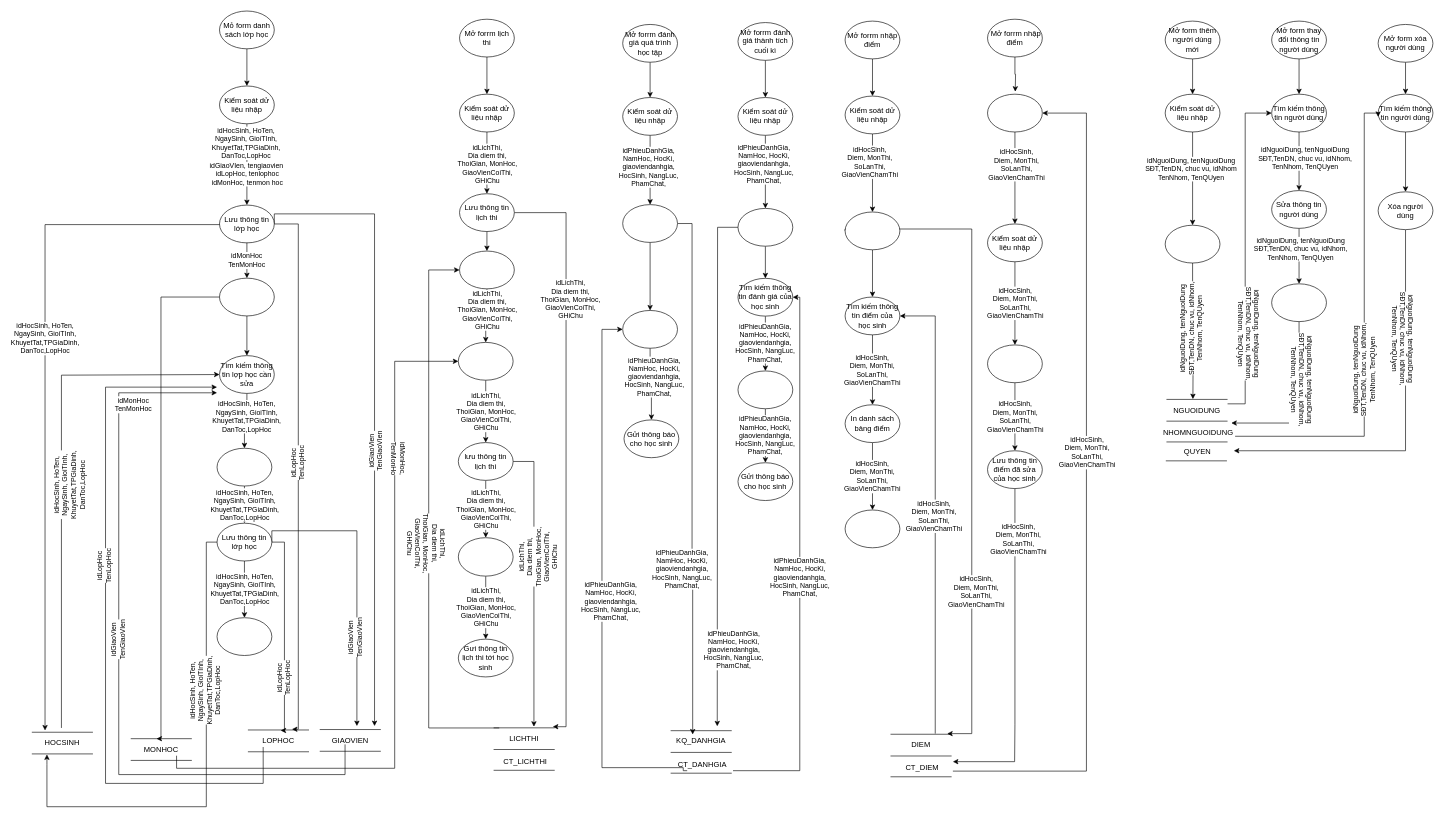
Some shapes in this 1444 by 823 pixel diagram are drawn without their labels. Each missing label, with the box of its shape:
In bản đánh giá thành tích cuối kì: (737, 370, 793, 409)
In danh sách lịch thi: (458, 537, 513, 576)
In danh sách lớp: (216, 617, 272, 656)
Lưu thông tin môn học: (219, 278, 274, 316)
Lưu thông tin người dùng: (1271, 283, 1326, 322)
Lưu thông tin rèn luyện của học sinh: (622, 204, 678, 242)
Lưu thông tin thành tích cuối kì của học sinh: (737, 208, 793, 246)
Lưu thông tin điểm số học sinh: (844, 211, 900, 250)
sửa thông tin lịch thi: (458, 342, 513, 380)
Sửa thông tin lớp học: (216, 448, 272, 486)
sửa thông tin điểm của học sinh: (987, 344, 1042, 383)
Thêm người dùng mới: (1165, 225, 1220, 263)
Thông báo điểm cho học sinh: (844, 509, 900, 548)
Tìm kiếm thông tin học viên: (622, 310, 678, 348)
Tìm kiếm thông tin lịch thi: (459, 250, 514, 289)
Tìm kiếm thông tin điểm học sinh cần sửa: (987, 94, 1042, 132)
